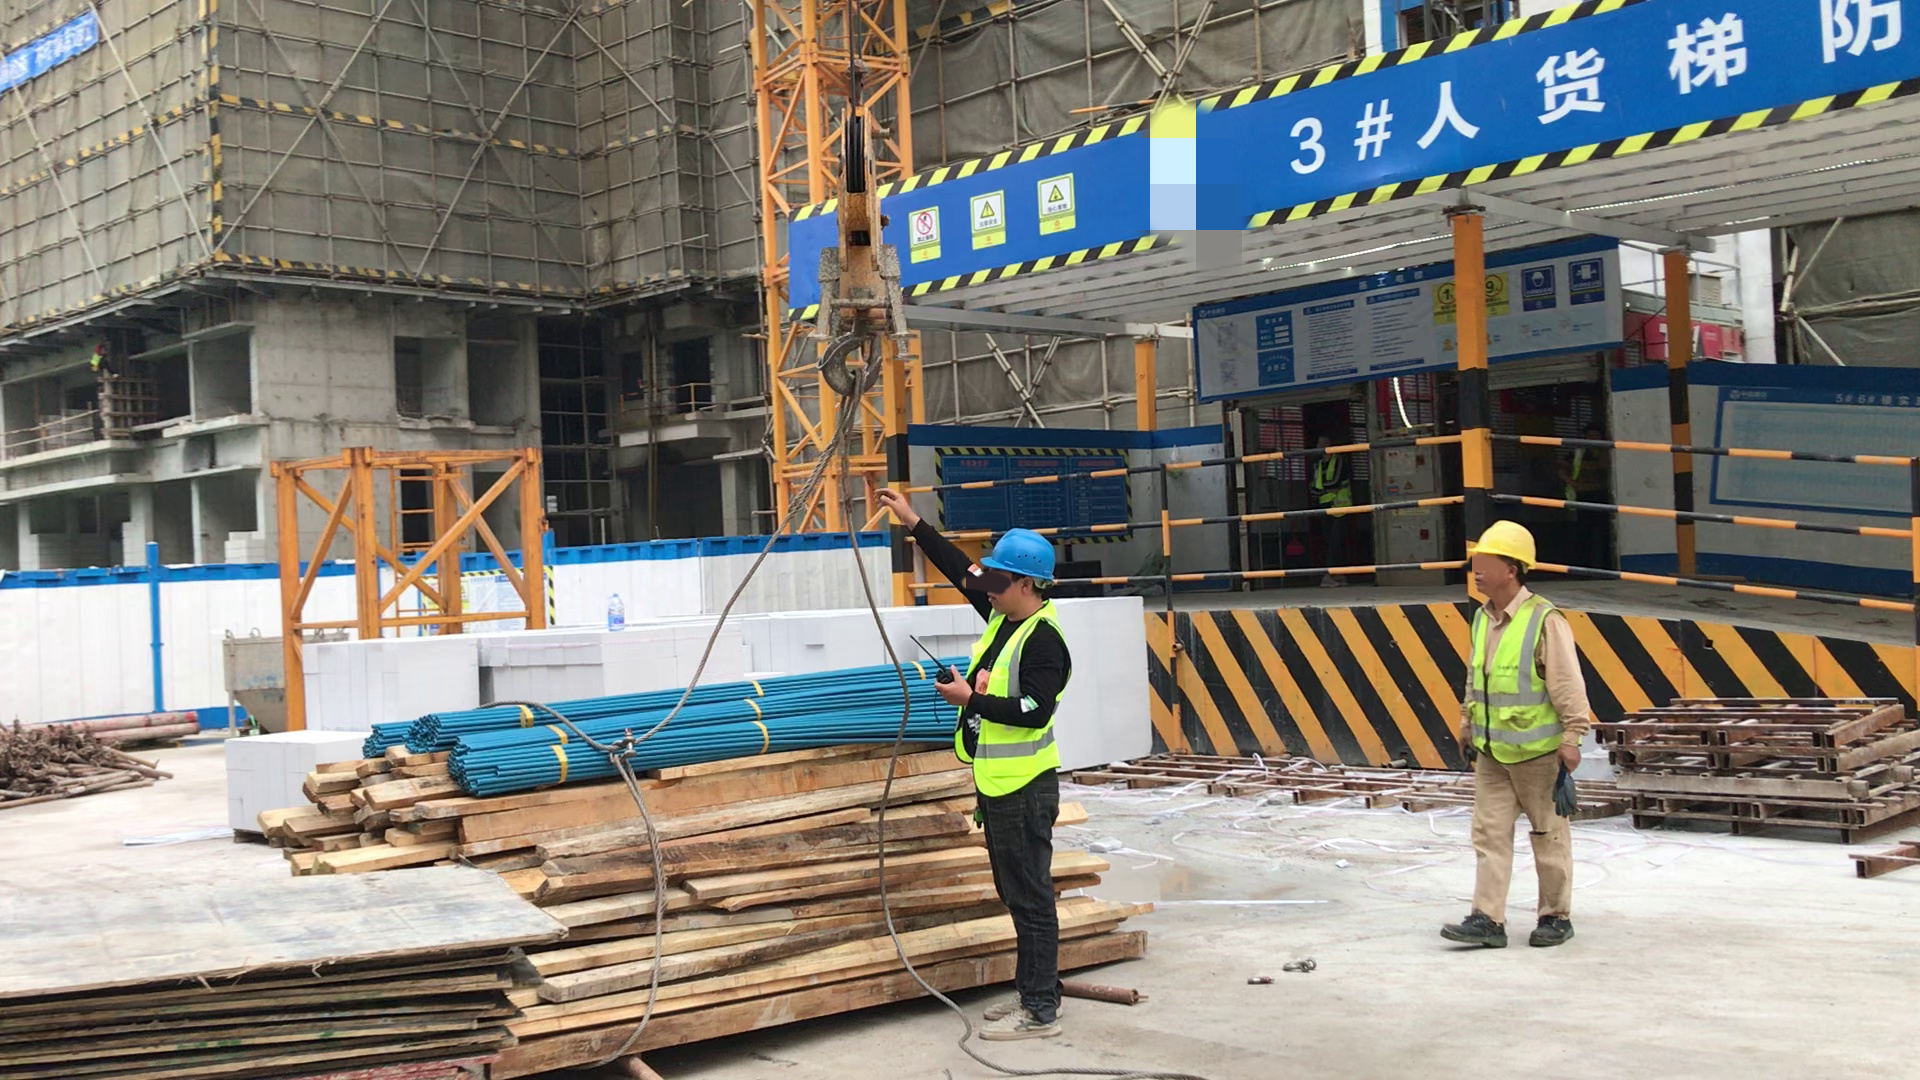board: (1, 869, 572, 1080)
brick: (315, 635, 527, 733), (524, 624, 750, 700), (224, 735, 369, 841), (758, 606, 933, 677)
helmet: (980, 529, 1055, 581), (1466, 518, 1535, 570)
hook: (816, 107, 882, 399)
person: (881, 493, 1074, 1041), (1450, 520, 1586, 945), (1307, 439, 1351, 579)
slogan: (901, 184, 1070, 262), (1490, 268, 1608, 330), (1, 19, 92, 84)
vest: (956, 619, 1065, 795), (1469, 606, 1565, 765)
wood: (327, 760, 1101, 997)
